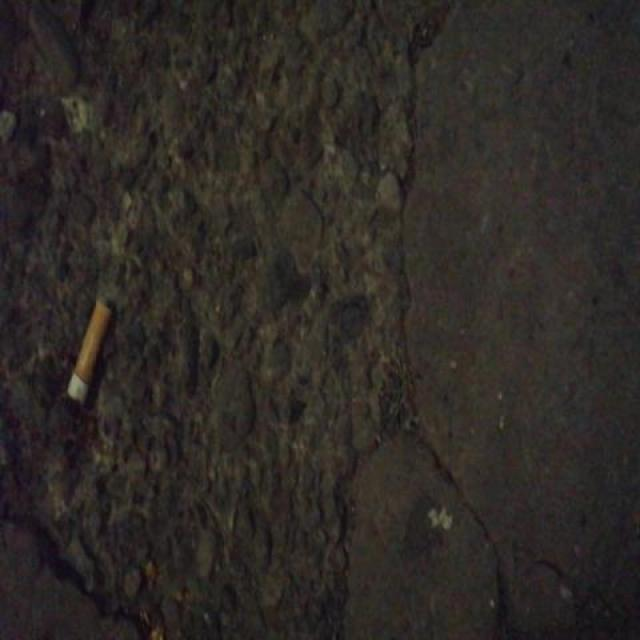non-organic waste: (65, 293, 119, 408)
